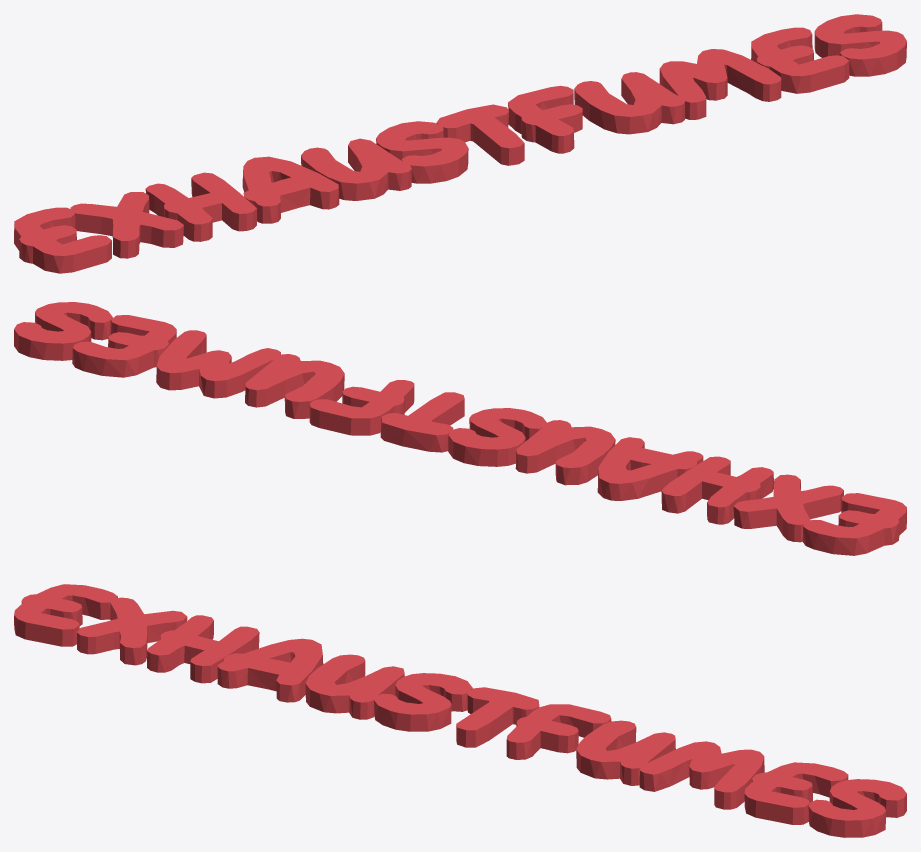
Rendered from exhaust.fbx.
The picture shows the model from 3 angles, top to bottom: view 1: azimuth 30°, elevation 25°; view 2: azimuth 150°, elevation 25°; view 3: azimuth 330°, elevation 25°; orthographic projection.
Visible parts, largest first — view 1: Text; view 2: Text; view 3: Text.
Part boxes in pixels (x1,y1,x2,y2): Text: [14, 14, 906, 273]; Text: [14, 302, 906, 555]; Text: [14, 584, 906, 837].
Size of the model in its own units: 627 by 11.96 by 68.52.
